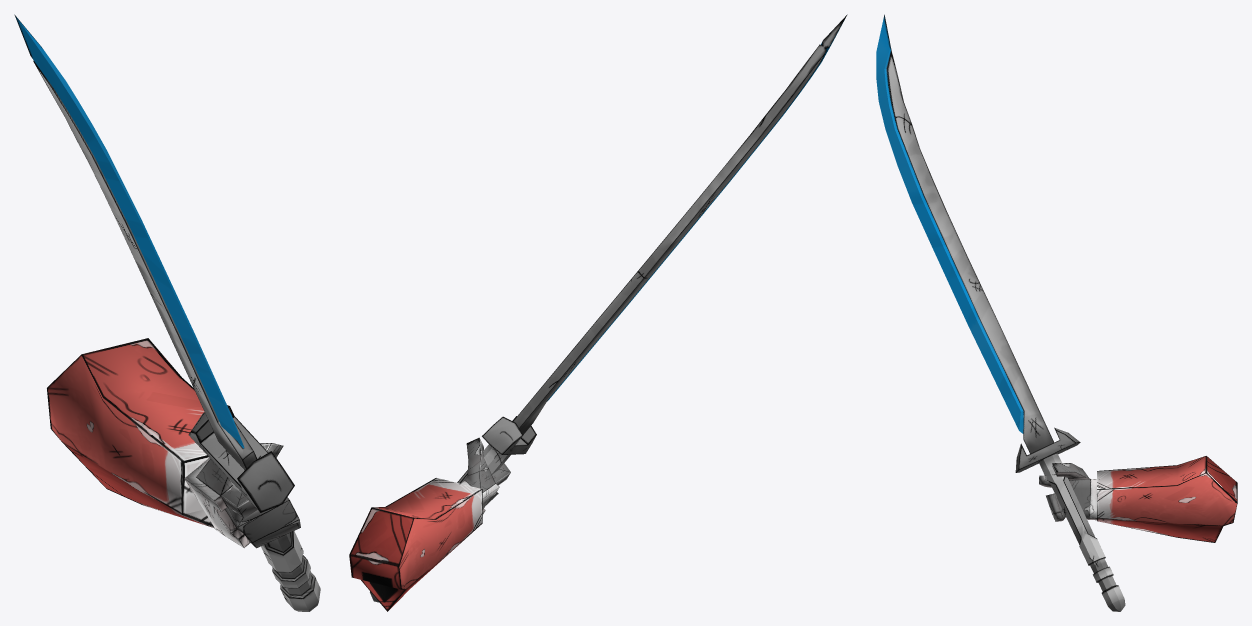
Rendered from SwordWeapon_v1 (1).fbx.
3 renders of one model, left to right at view 1: azimuth 30°, elevation 25°; view 2: azimuth 150°, elevation 25°; view 3: azimuth 270°, elevation 25°, orthographic. The views are drawn at different scales.
Visible parts, largest first — view 1: polySurface1, polySurface3, polySurface2; view 2: polySurface1, polySurface3, polySurface2; view 3: polySurface3, polySurface1, polySurface2.
Part boxes in pixels (<box>): polySurface1: <box>47,338,214,527</box>; polySurface3: <box>14,14,320,611</box>; polySurface2: <box>184,443,300,548</box>; polySurface1: <box>349,478,482,611</box>; polySurface3: <box>370,14,847,602</box>; polySurface2: <box>459,437,510,514</box>; polySurface3: <box>876,14,1125,611</box>; polySurface1: <box>1097,456,1237,542</box>; polySurface2: <box>1039,463,1099,521</box>.
Size of the model in its own units: 263 by 423 by 297.
